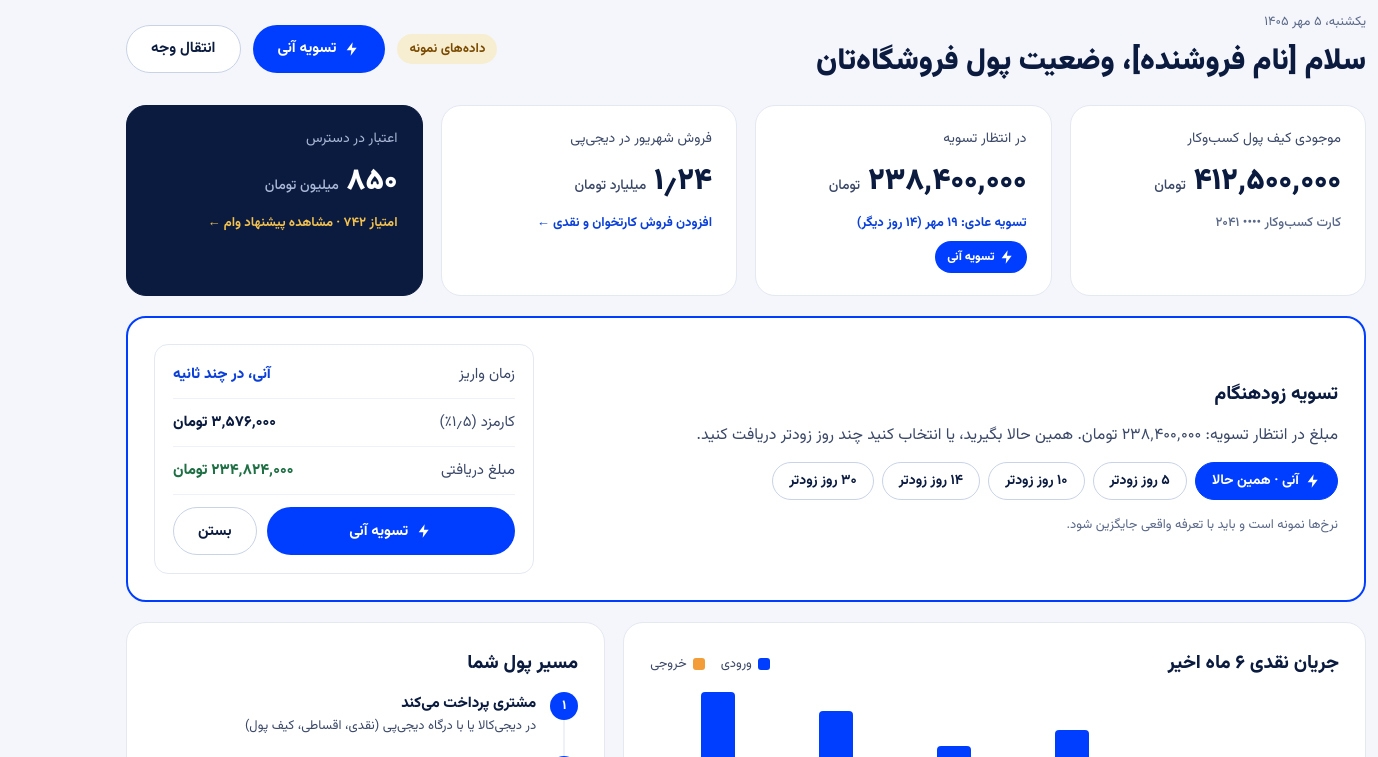
Scenario: schedules a 5-day early settlement without changing the wallet yet
Click the radio button labelled "۵ روز زودتر" at (1140, 481), box left=1092, top=462, right=1187, bottom=500
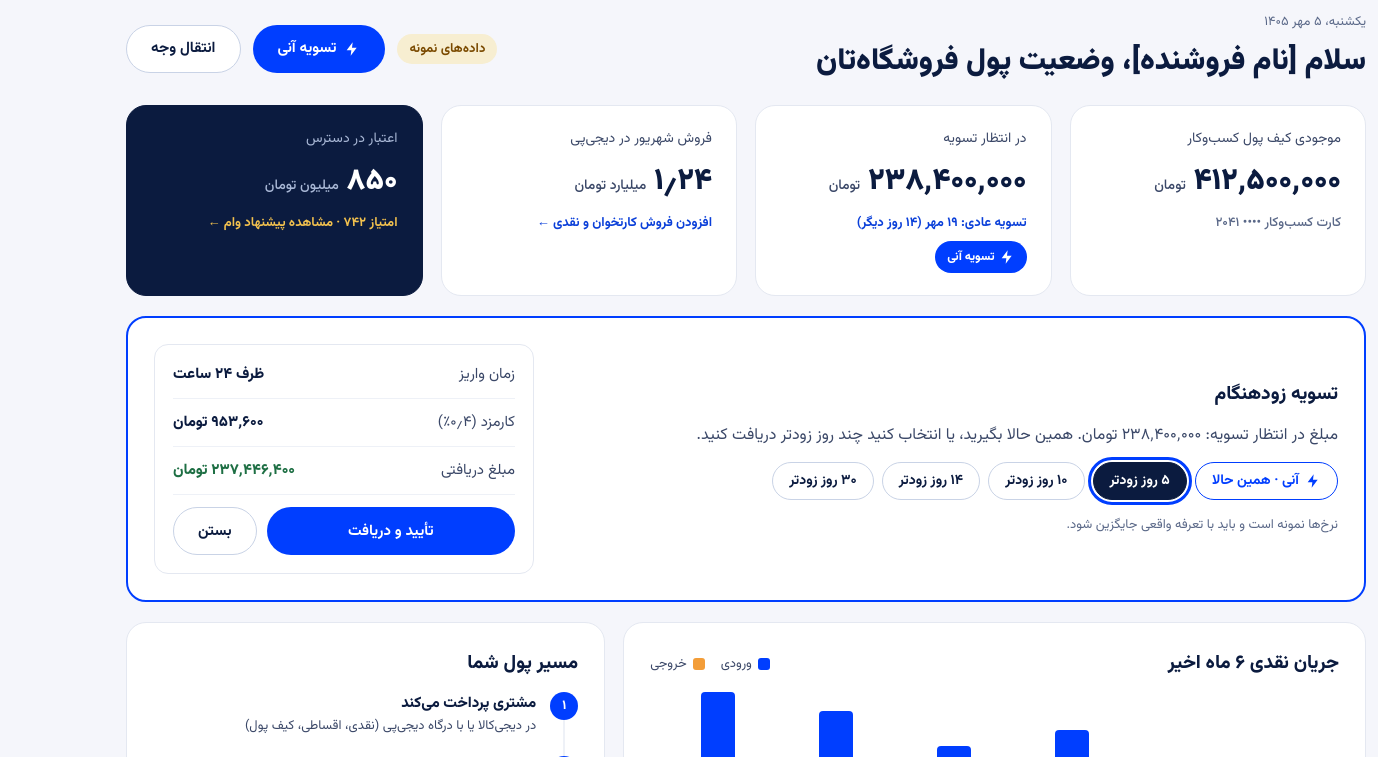
Now the text "۹۵۳٬۶۰۰ تومان" is shown, box left=173, top=411, right=263, bottom=434
Click the button "تأیید و دریافت" at (391, 531), box left=267, top=507, right=515, bottom=555
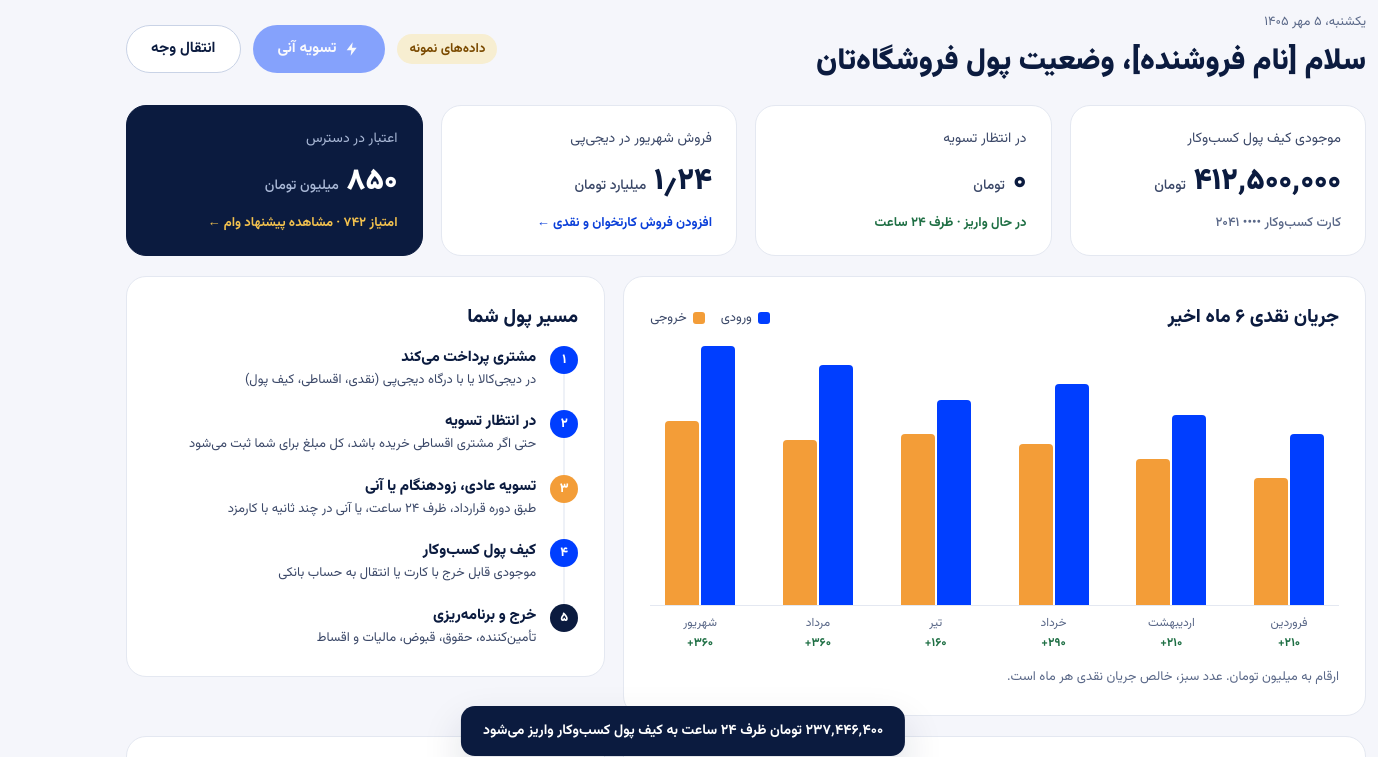
Now the text "در حال واریز · ظرف ۲۴ ساعت" is shown, box left=875, top=213, right=1026, bottom=233
